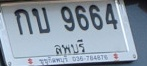txt01: (13, 7, 34, 35)
txt21: (31, 6, 52, 35)
